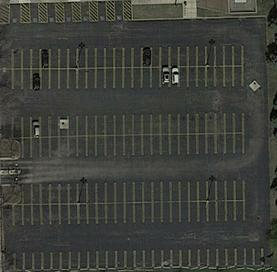parkingspot: (11, 111, 245, 139), (2, 247, 273, 271), (2, 200, 246, 226), (2, 44, 244, 70), (2, 65, 245, 90), (21, 132, 246, 159), (21, 178, 246, 205), (8, 2, 22, 24), (62, 2, 74, 24), (29, 1, 40, 24), (46, 2, 57, 24), (96, 0, 107, 22), (80, 0, 90, 22), (114, 0, 124, 22)
